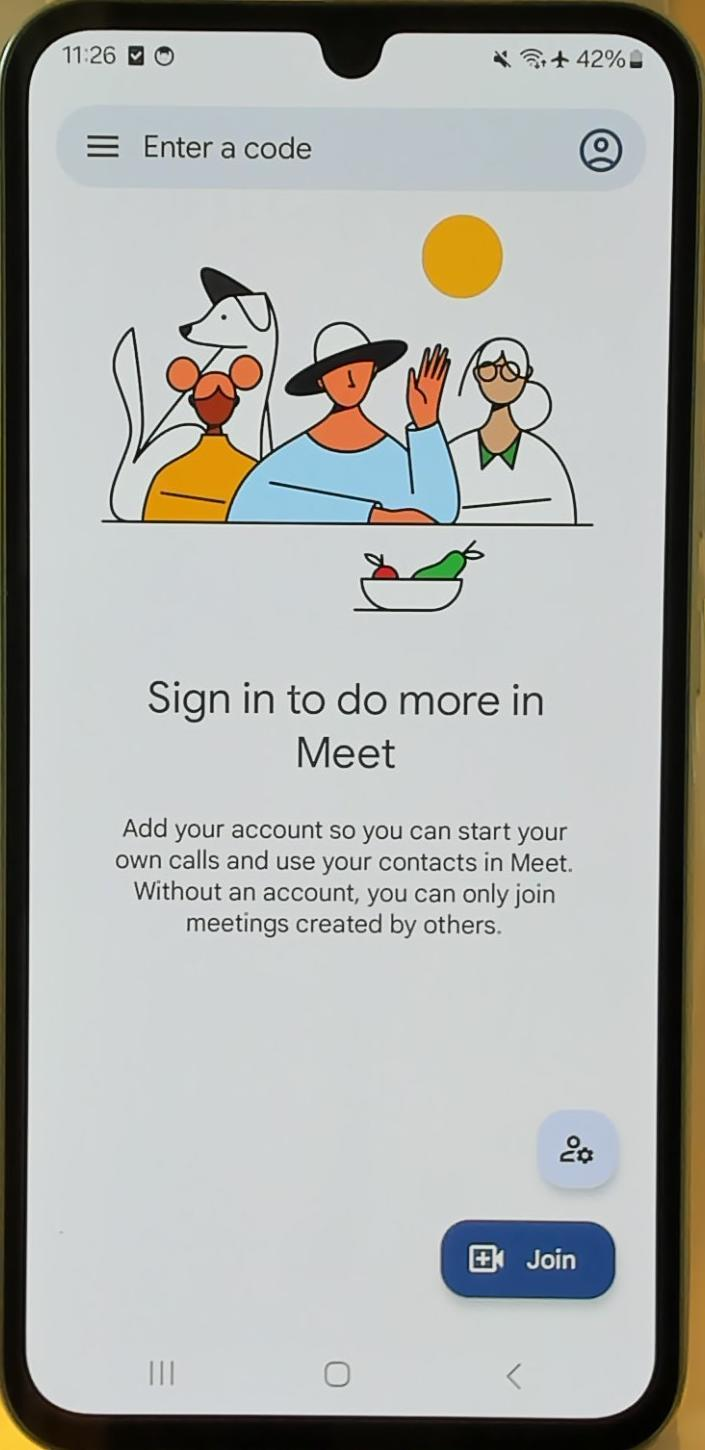CommunBotton: (436, 1210, 628, 1312), (534, 1098, 626, 1206), (130, 1334, 194, 1404), (490, 1346, 550, 1406), (304, 1340, 358, 1404)
TextField: (54, 86, 652, 202)
